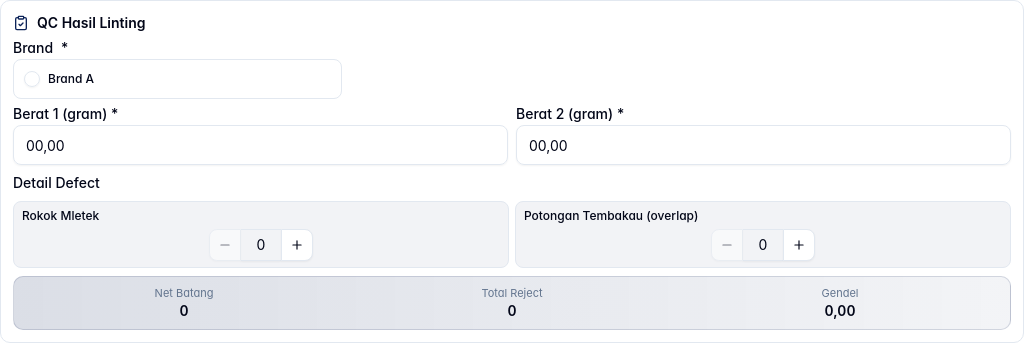
Scenario: QC Linting fields › increments and decrements defects without going below zero
Expected: the button named "Kurangi Rokok Mletek" is disabled, top-left (209, 228), bottom-right (241, 260)
Step 1. Click the button named "Tambah Rokok Mletek" → (297, 244), box top-left (281, 228), bottom-right (313, 260)
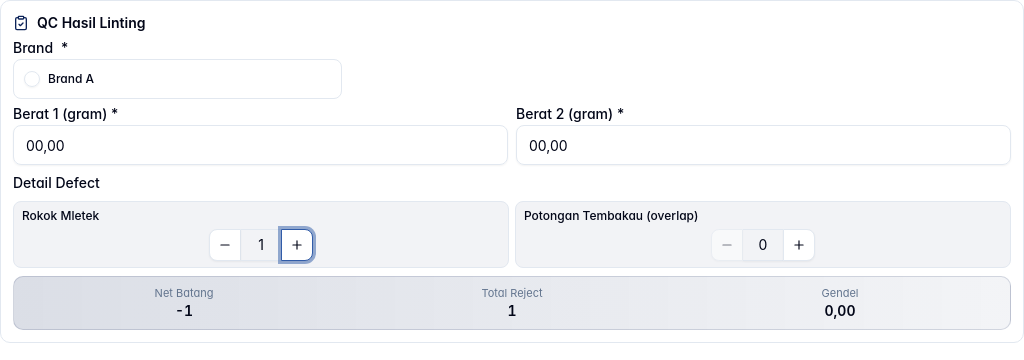
Result: the field labelled "Rokok Mletek" holds "1" at top-left (241, 228), bottom-right (281, 260)
Step 2. Click the button named "Kurangi Rokok Mletek" → (225, 244), box top-left (209, 228), bottom-right (241, 260)
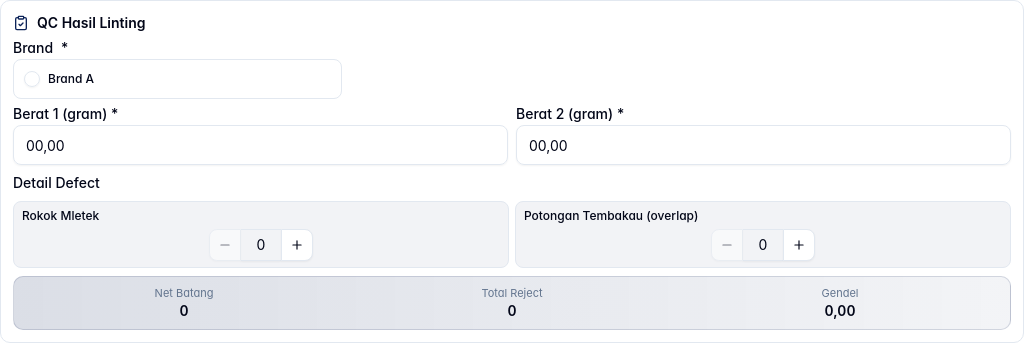
Result: the field labelled "Rokok Mletek" holds "0" at top-left (241, 228), bottom-right (281, 260)
